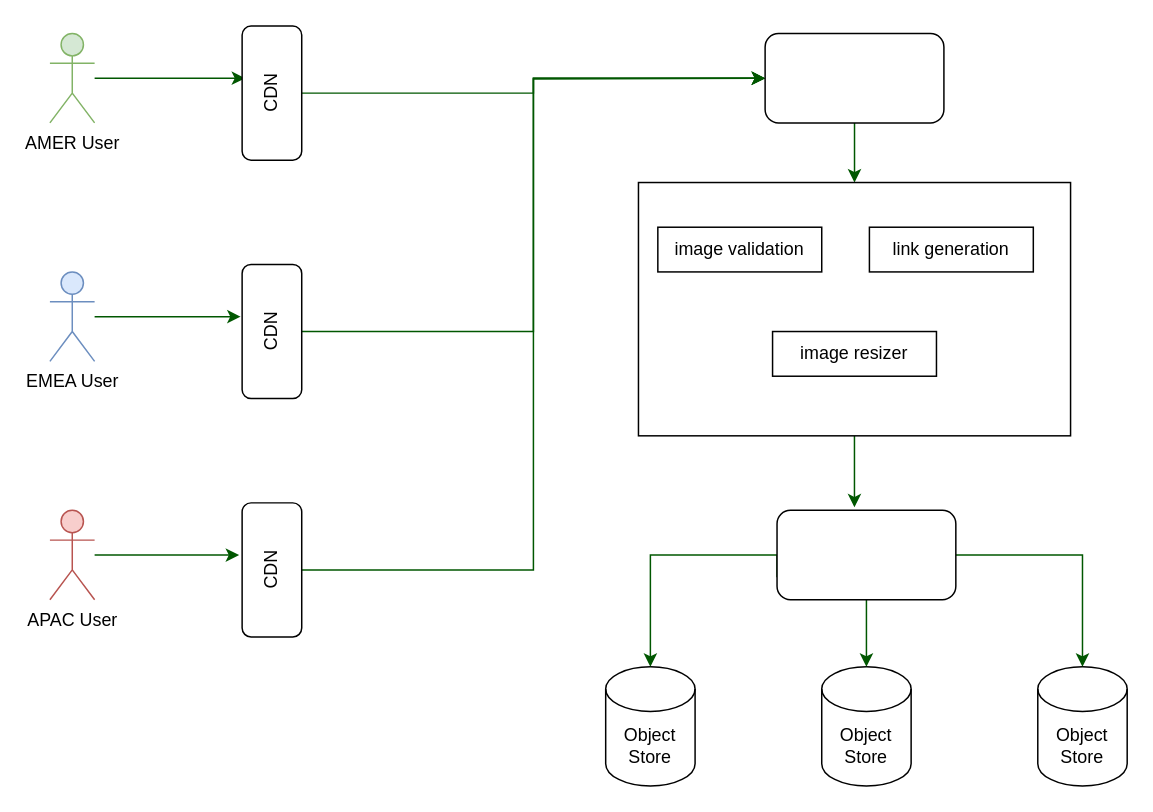
This 1153x812 diagram has some shape labels left out. The centre of each missing label's shape, as x and y in pixels:
"Cache" goes at pixel 866 554.
"Load Balancer" goes at pixel 854 77.
